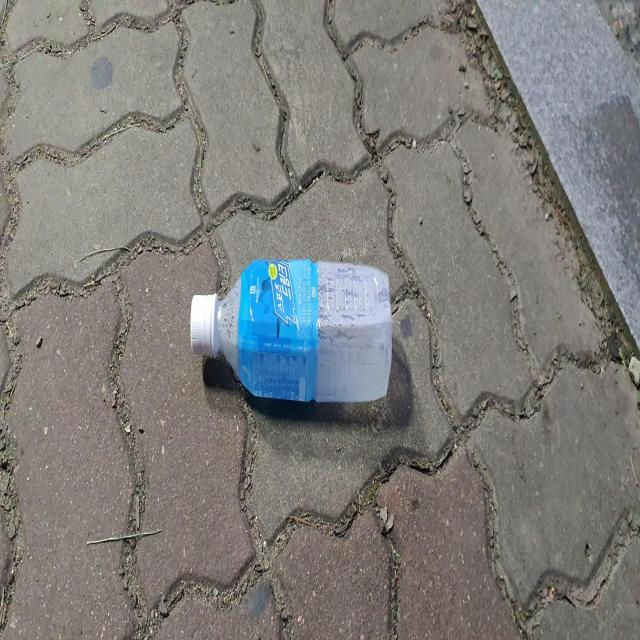plastic: (190, 257, 392, 402)
